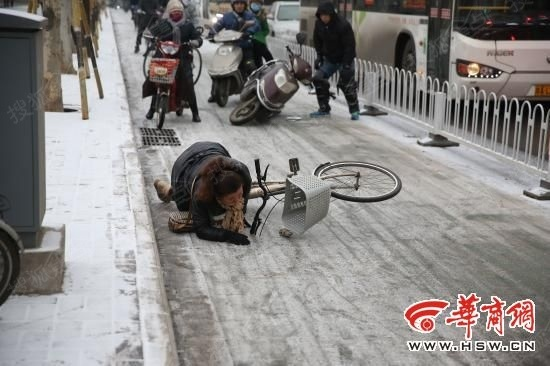falling: (145, 125, 255, 253)
